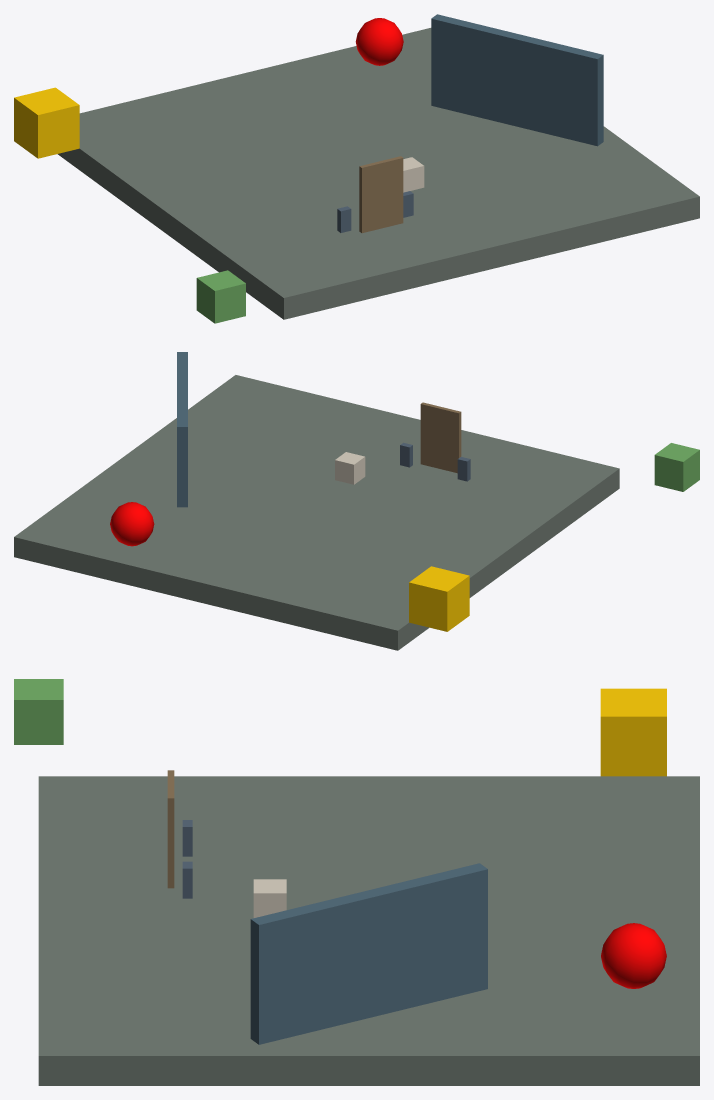
File: test_fixture.glb
3 views of the same model, one above another, from view 1: azimuth 30°, elevation 25°; view 2: azimuth 150°, elevation 25°; view 3: azimuth 270°, elevation 25° (orthographic). The views are drawn at different scales.
Parts seen in each view (by area): view 1: col_floor, col_wall, trig_secret_door, door_gate, secret_stash, trig_broken, deco_crate; view 2: col_floor, trig_secret_door, door_gate, secret_stash, col_wall, trig_broken, deco_crate; view 3: col_floor, col_wall, trig_secret_door, trig_broken, secret_stash, deco_crate, door_gate.
Boxes of the visible parts, x1,y1,x2,y2 form: col_floor: (57, 28, 699, 319); col_wall: (431, 14, 603, 146); trig_secret_door: (14, 87, 79, 158); door_gate: (359, 156, 403, 233); secret_stash: (196, 270, 245, 323); trig_broken: (355, 18, 403, 65); deco_crate: (403, 157, 424, 192); col_floor: (14, 375, 619, 650); trig_secret_door: (409, 566, 469, 631); door_gate: (420, 402, 461, 473); secret_stash: (654, 443, 699, 491); col_wall: (177, 352, 187, 507); trig_broken: (110, 502, 154, 546); deco_crate: (335, 452, 365, 484); col_floor: (38, 776, 699, 1085); col_wall: (250, 863, 487, 1044); trig_secret_door: (600, 688, 666, 776); trig_broken: (601, 923, 666, 988); secret_stash: (14, 679, 63, 744); deco_crate: (253, 879, 286, 917); door_gate: (167, 770, 174, 888).
Bounding box in the file's own units: 23.75 × 5 × 20.75.
